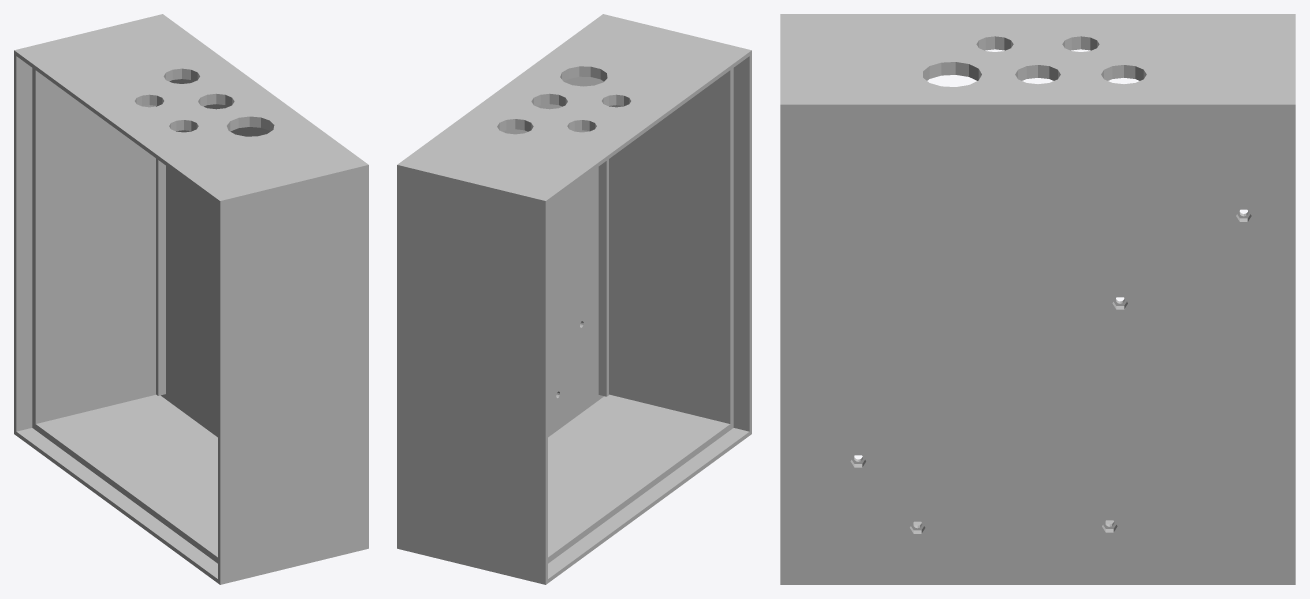
File: pcb_link.dae
3 views of the same model, side by side, from view 1: azimuth 30°, elevation 25°; view 2: azimuth 150°, elevation 25°; view 3: azimuth 270°, elevation 25° (orthographic). The views are drawn at different scales.
Parts seen in each view (by area): view 1: pcb_link; view 2: pcb_link; view 3: pcb_link.
Boxes of the visible parts, x1,y1,x2,y2 form: pcb_link: (14, 14, 368, 584); pcb_link: (397, 14, 751, 584); pcb_link: (780, 14, 1295, 584).
Size of the model in its own units: 0.075 by 0.18 by 0.185.
Materials: 1 (1 with a texture image).
